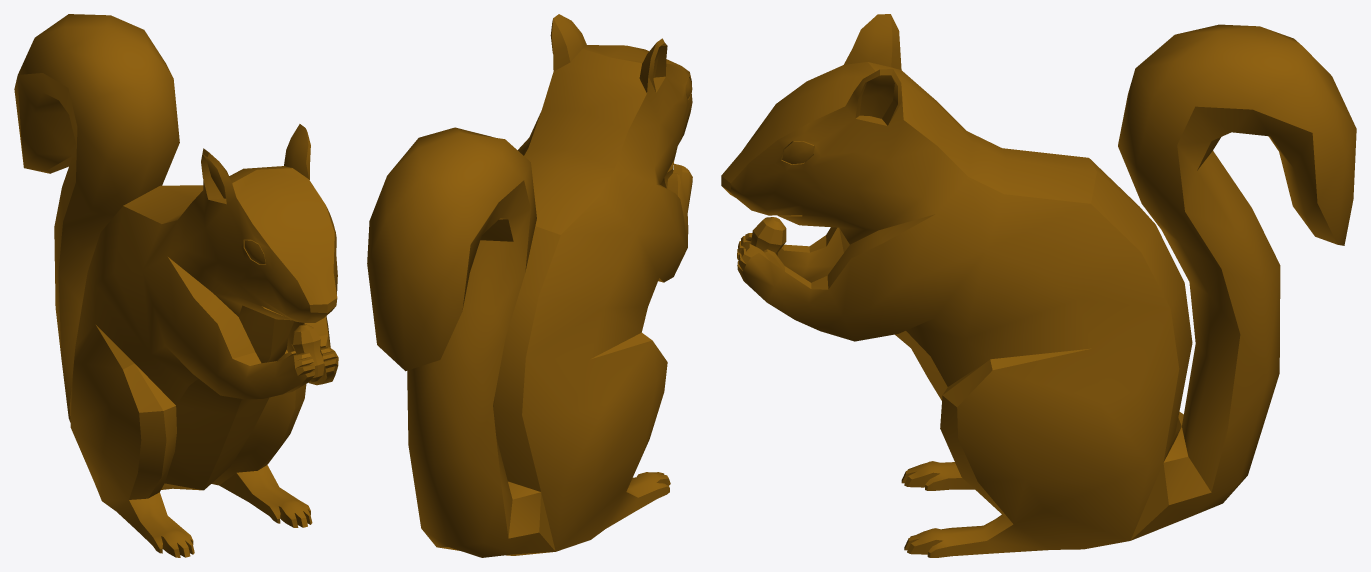
The model's file is low-poly-squirrel.obj.
3 views of the same model, side by side, from view 1: azimuth 30°, elevation 25°; view 2: azimuth 150°, elevation 25°; view 3: azimuth 270°, elevation 25° (orthographic). The views are drawn at different scales.
Parts seen in each view (by area): view 1: Low_Poly_Squirrel; view 2: Low_Poly_Squirrel; view 3: Low_Poly_Squirrel.
Boxes of the visible parts, x1,y1,x2,y2 form: Low_Poly_Squirrel: (14, 14, 338, 557); Low_Poly_Squirrel: (367, 14, 692, 557); Low_Poly_Squirrel: (721, 14, 1356, 557).
Size of the model in its own units: 70.52 by 150 by 180.
